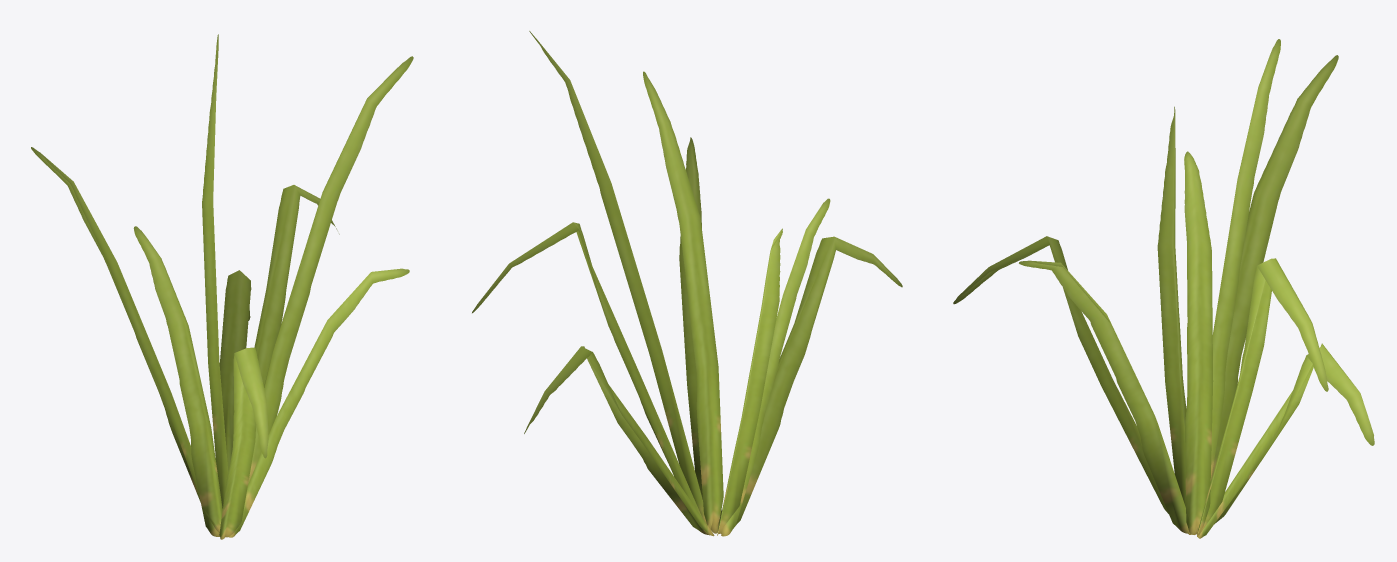
Rendered from grass 01.obj.
3 views of the same model, side by side, from view 1: azimuth 30°, elevation 25°; view 2: azimuth 150°, elevation 25°; view 3: azimuth 270°, elevation 25° (orthographic). The views are drawn at different scales.
Visible parts, largest first — view 1: tree; view 2: tree; view 3: tree.
Boxes of the visible parts, x1,y1,x2,y2 form: tree: (31, 34, 413, 539); tree: (472, 31, 902, 536); tree: (953, 39, 1374, 538).
Size of the model in its own units: 80.05 by 110 by 81.12.
